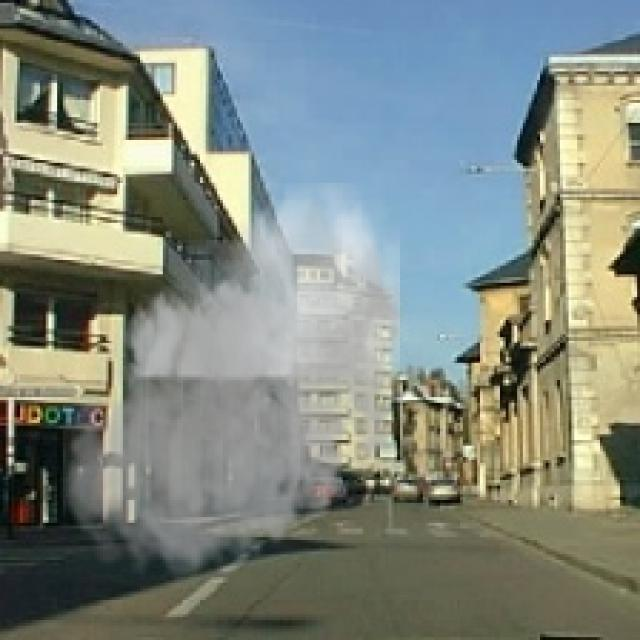smoke: (57, 183, 414, 594)
